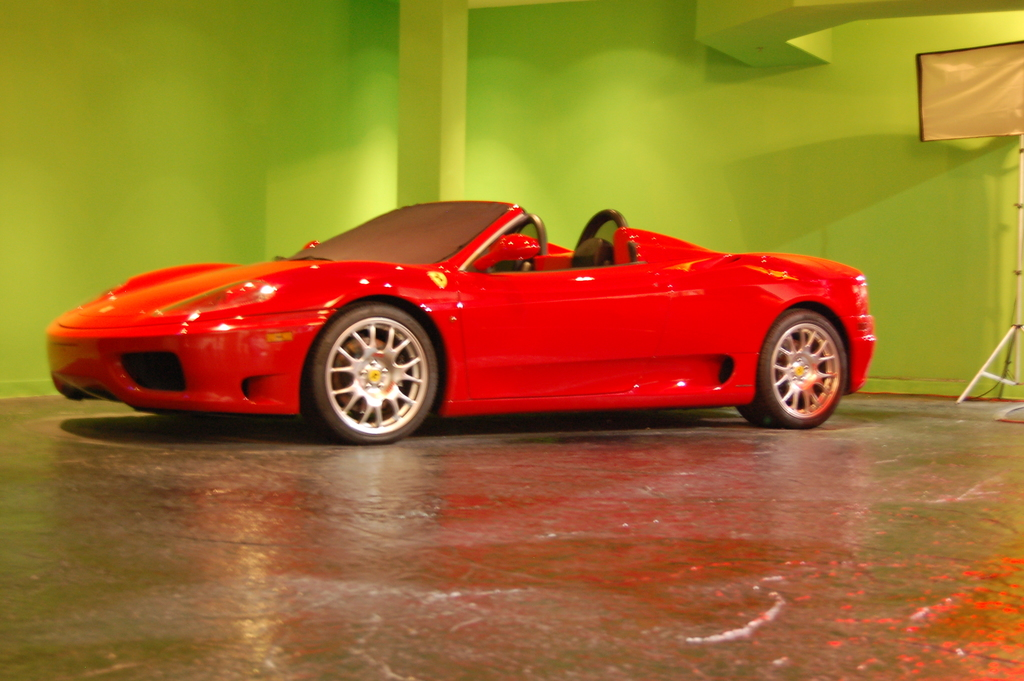Car: (45, 197, 881, 453)
